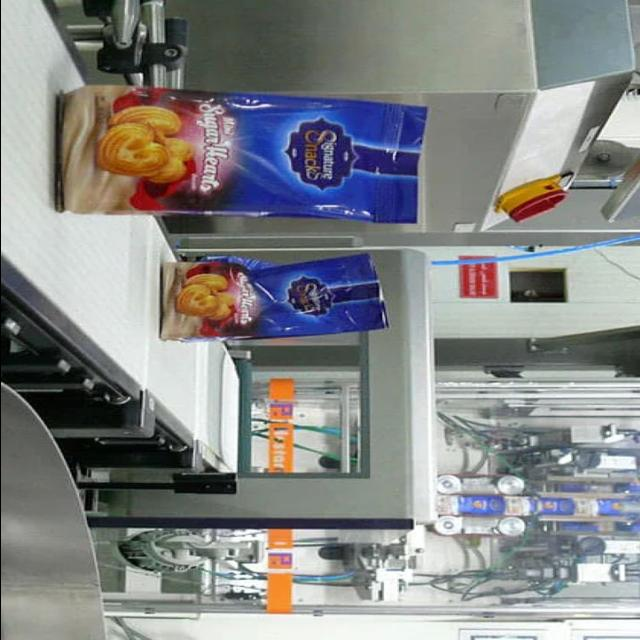food: (53, 83, 430, 225), (157, 251, 391, 343)
